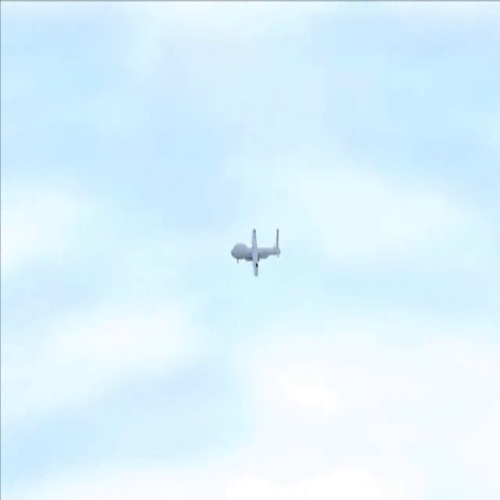uav926: (228, 228, 283, 279)
